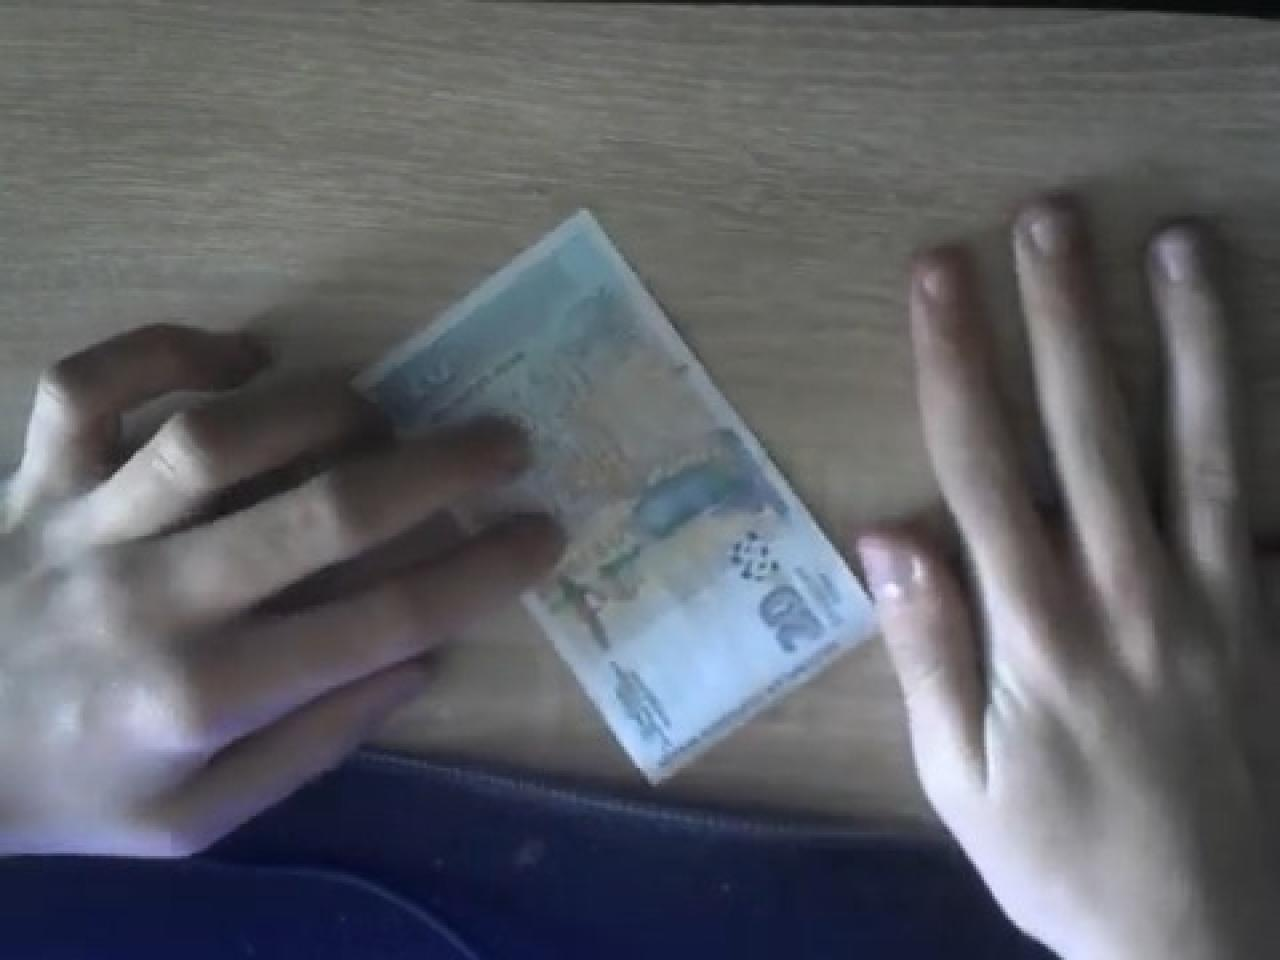20leva: (355, 206, 877, 782)
